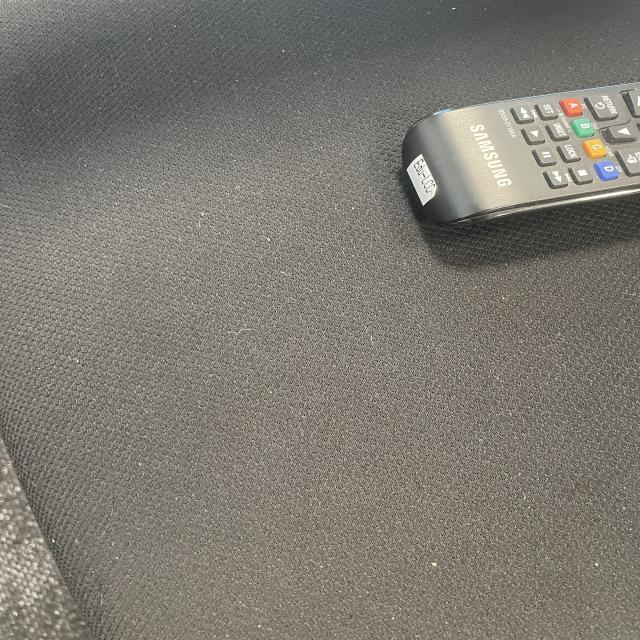remote: (399, 78, 640, 228)
